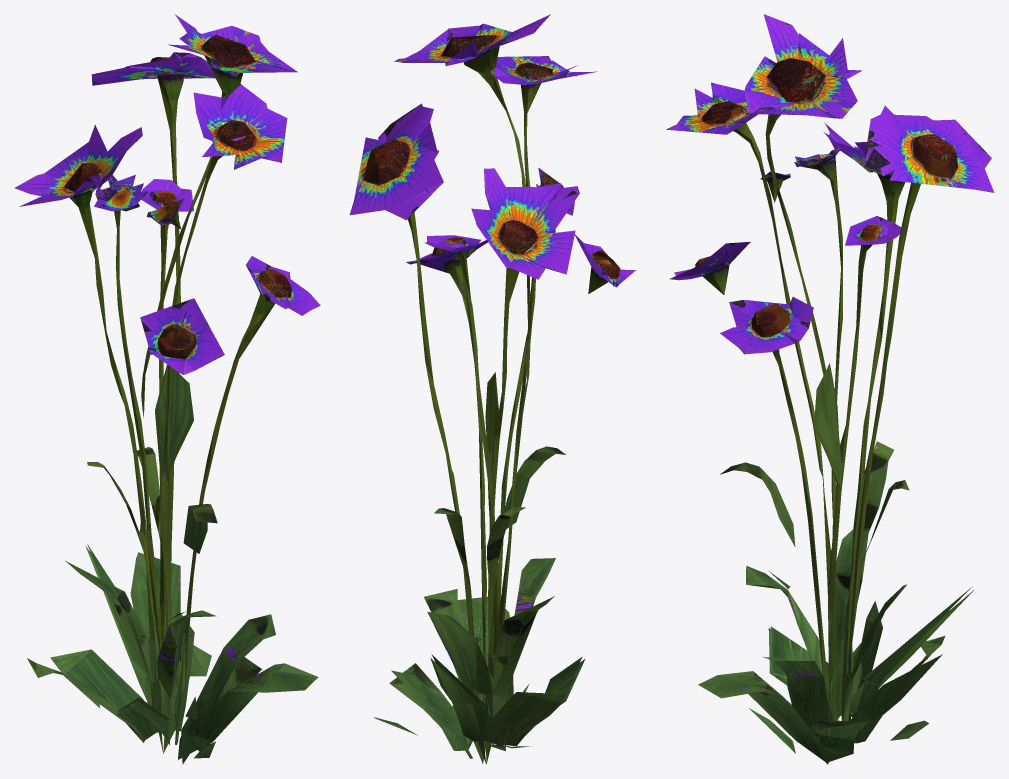
The model's file is FlowersViolet.glb.
The picture shows the model from 3 angles, left to right: view 1: azimuth 30°, elevation 25°; view 2: azimuth 150°, elevation 25°; view 3: azimuth 270°, elevation 25°; orthographic projection. The views are drawn at different scales.
Size of the model in its own units: 0.1545 by 0.5 by 0.2033.
Materials: 1 (1 with a texture image).
